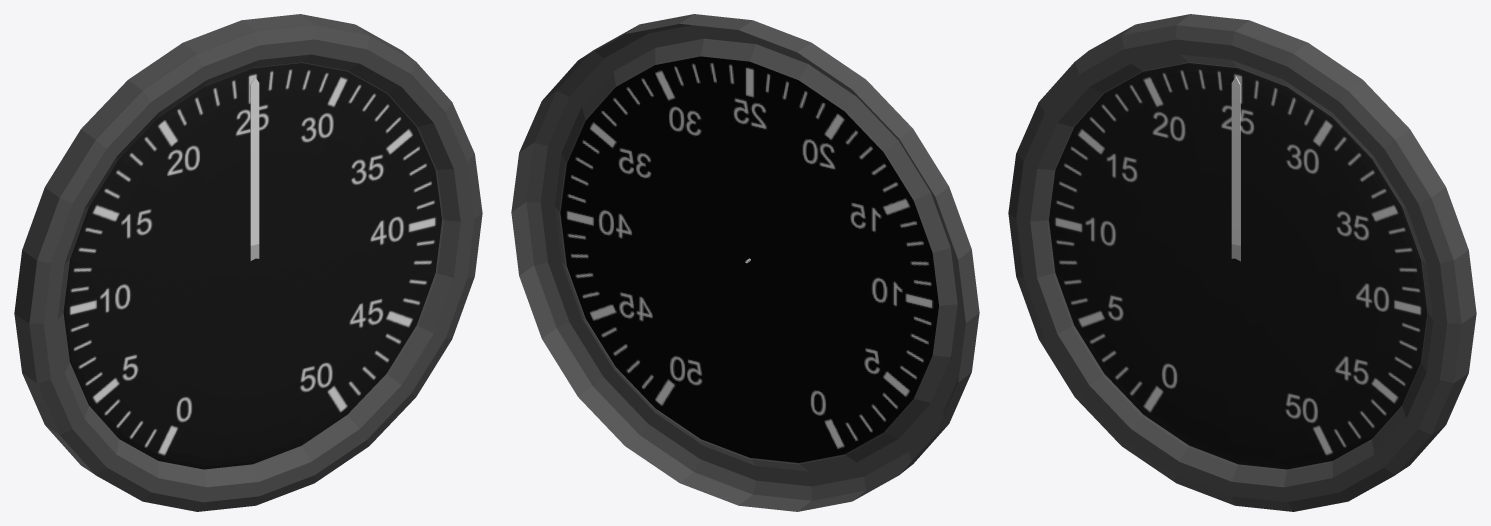
File: Gauge_0-50.obj
The picture shows the model from 3 angles, left to right: view 1: azimuth 30°, elevation 25°; view 2: azimuth 150°, elevation 25°; view 3: azimuth 330°, elevation 25°; orthographic projection.
Visible parts, largest first — view 1: Face, Rim, NeedleMain; view 2: Face, Rim; view 3: Face, Rim, NeedleMain.
Boxes of the visible parts, box(x1,y1,x2,y2) form: Face: box(63, 63, 441, 469); Rim: box(14, 14, 482, 511); NeedleMain: box(250, 77, 259, 245); Face: box(560, 56, 938, 462); Rim: box(511, 14, 979, 511); Face: box(1049, 63, 1427, 469); Rim: box(1008, 14, 1476, 511); NeedleMain: box(1231, 77, 1240, 245).
Size of the model in its own units: 0.0822 by 0.0822 by 0.00794.
